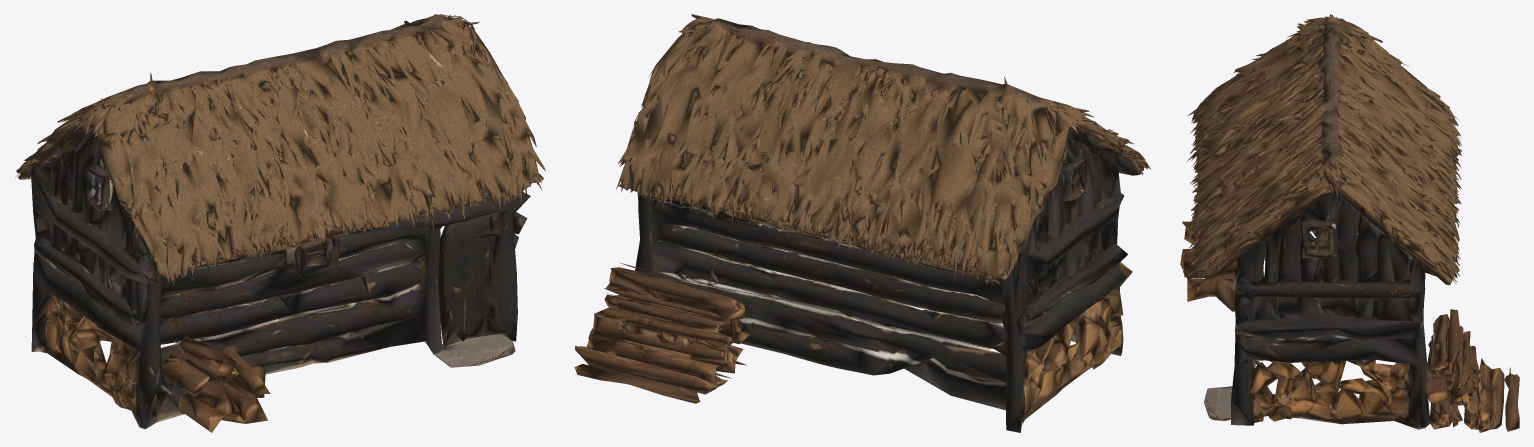
Rendered from haus-0.glb.
3 renders of one model, left to right at view 1: azimuth 30°, elevation 25°; view 2: azimuth 150°, elevation 25°; view 3: azimuth 270°, elevation 25°, orthographic. The views are drawn at different scales.
Size of the model in its own units: 1.88 by 1.3 by 1.48.
1 material, 1 textured.
